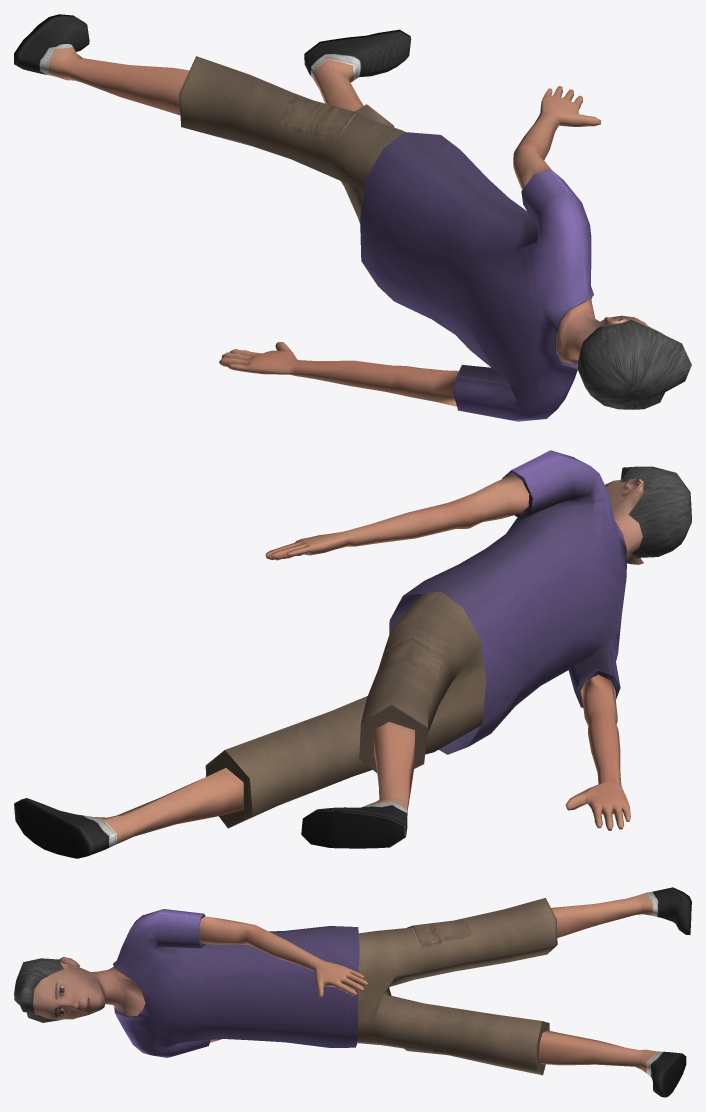
Rendered from walk.obj.
3 renders of one model, top to bottom at view 1: azimuth 30°, elevation 25°; view 2: azimuth 150°, elevation 25°; view 3: azimuth 270°, elevation 25°, orthographic. The views are drawn at different scales.
Bounding box in the file's own units: 0.8592 × 0.4623 × 1.74.
1 material, 1 textured.
